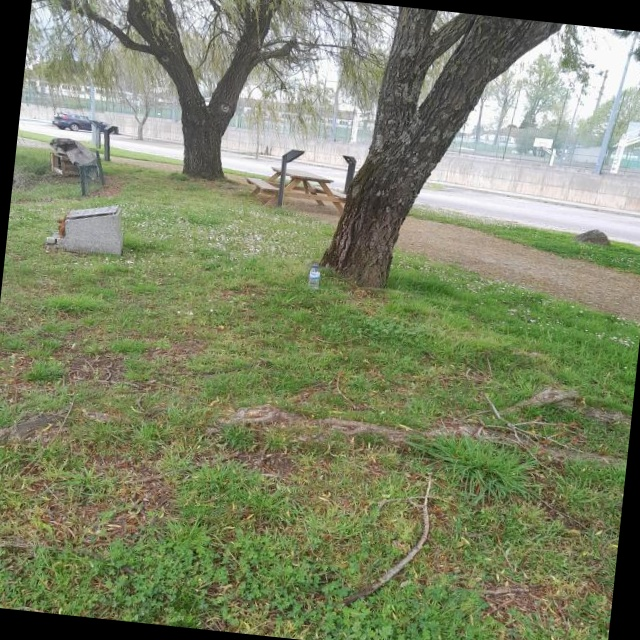Plastic-bottle: (298, 264, 321, 294)
